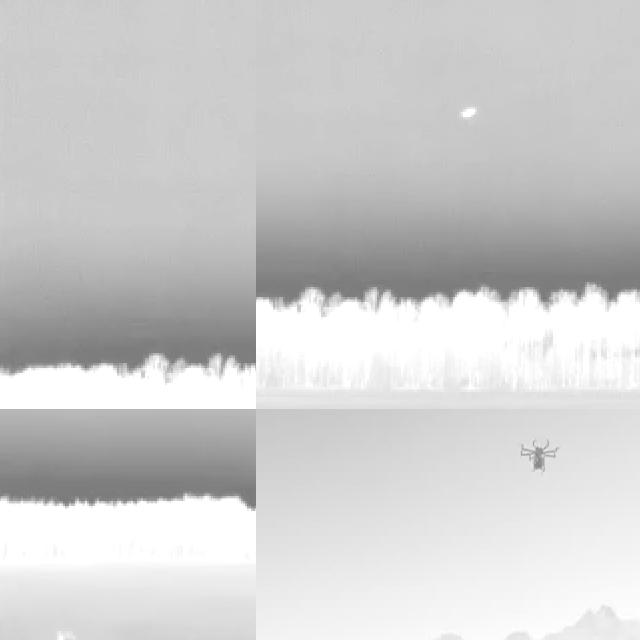1: (453, 101, 489, 131)
drone: (516, 427, 562, 483)
